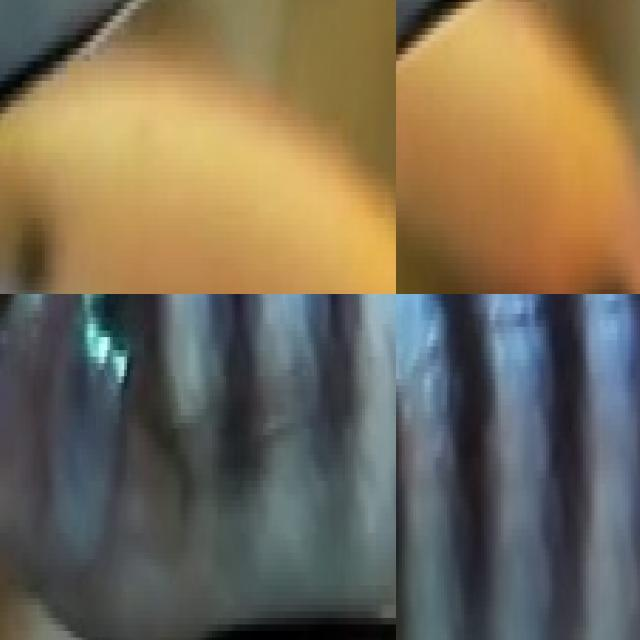fish: (0, 2, 396, 294), (396, 0, 640, 294)
